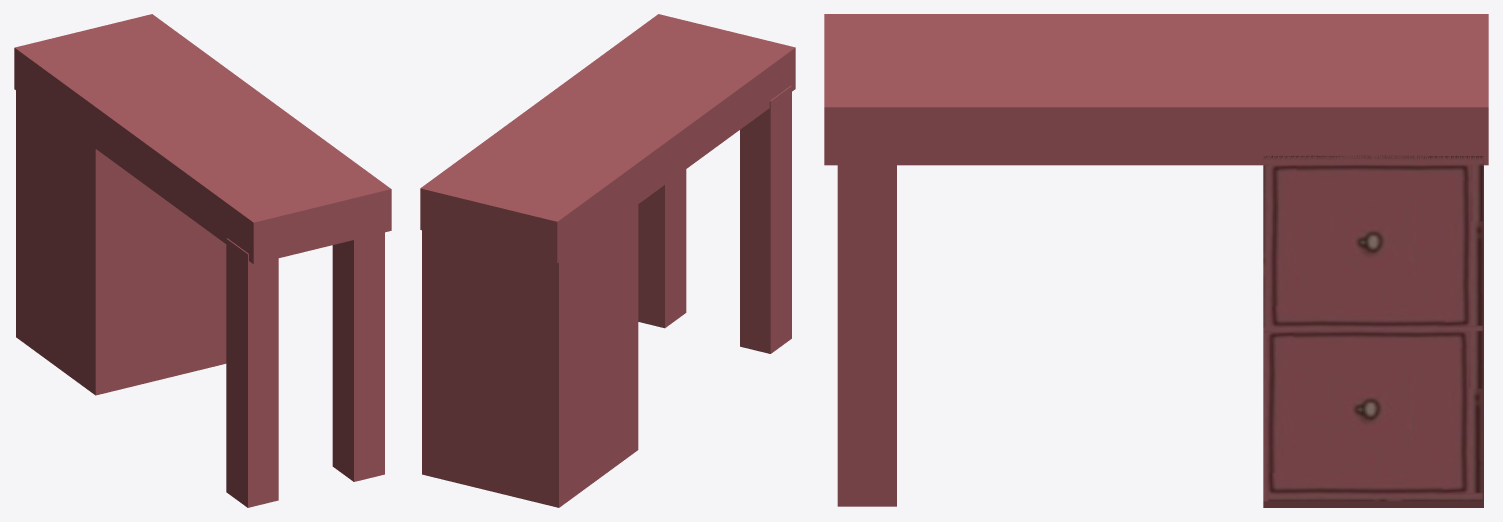
File: tinadesk.obj
3 views of the same model, side by side, from view 1: azimuth 30°, elevation 25°; view 2: azimuth 150°, elevation 25°; view 3: azimuth 270°, elevation 25° (orthographic). The views are drawn at different scales.
Visible parts, largest first — view 1: pCube12; view 2: pCube12; view 3: pCube12.
Part boxes in pixels (bbox=[...]): pCube12: bbox=[14, 14, 391, 507]; pCube12: bbox=[420, 14, 795, 507]; pCube12: bbox=[824, 14, 1488, 507].
Size of the model in its own units: 1.01 by 2 by 3.01.
2 materials, 2 textured.
